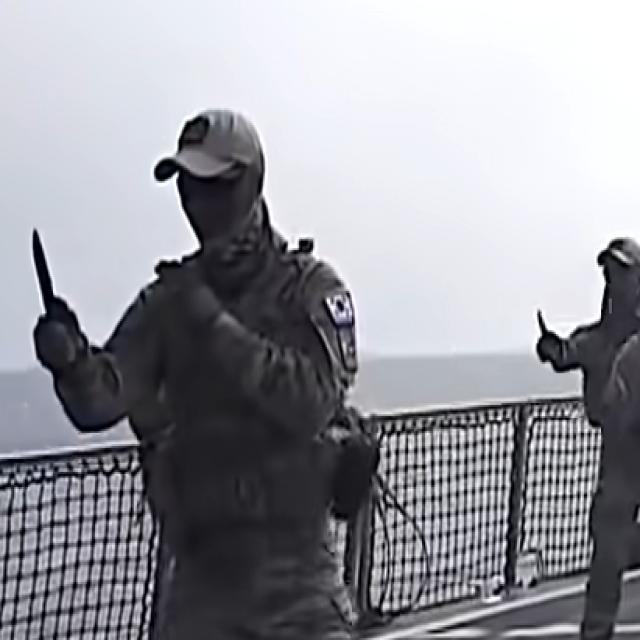Fknife: (29, 219, 77, 349), (527, 292, 554, 374)
